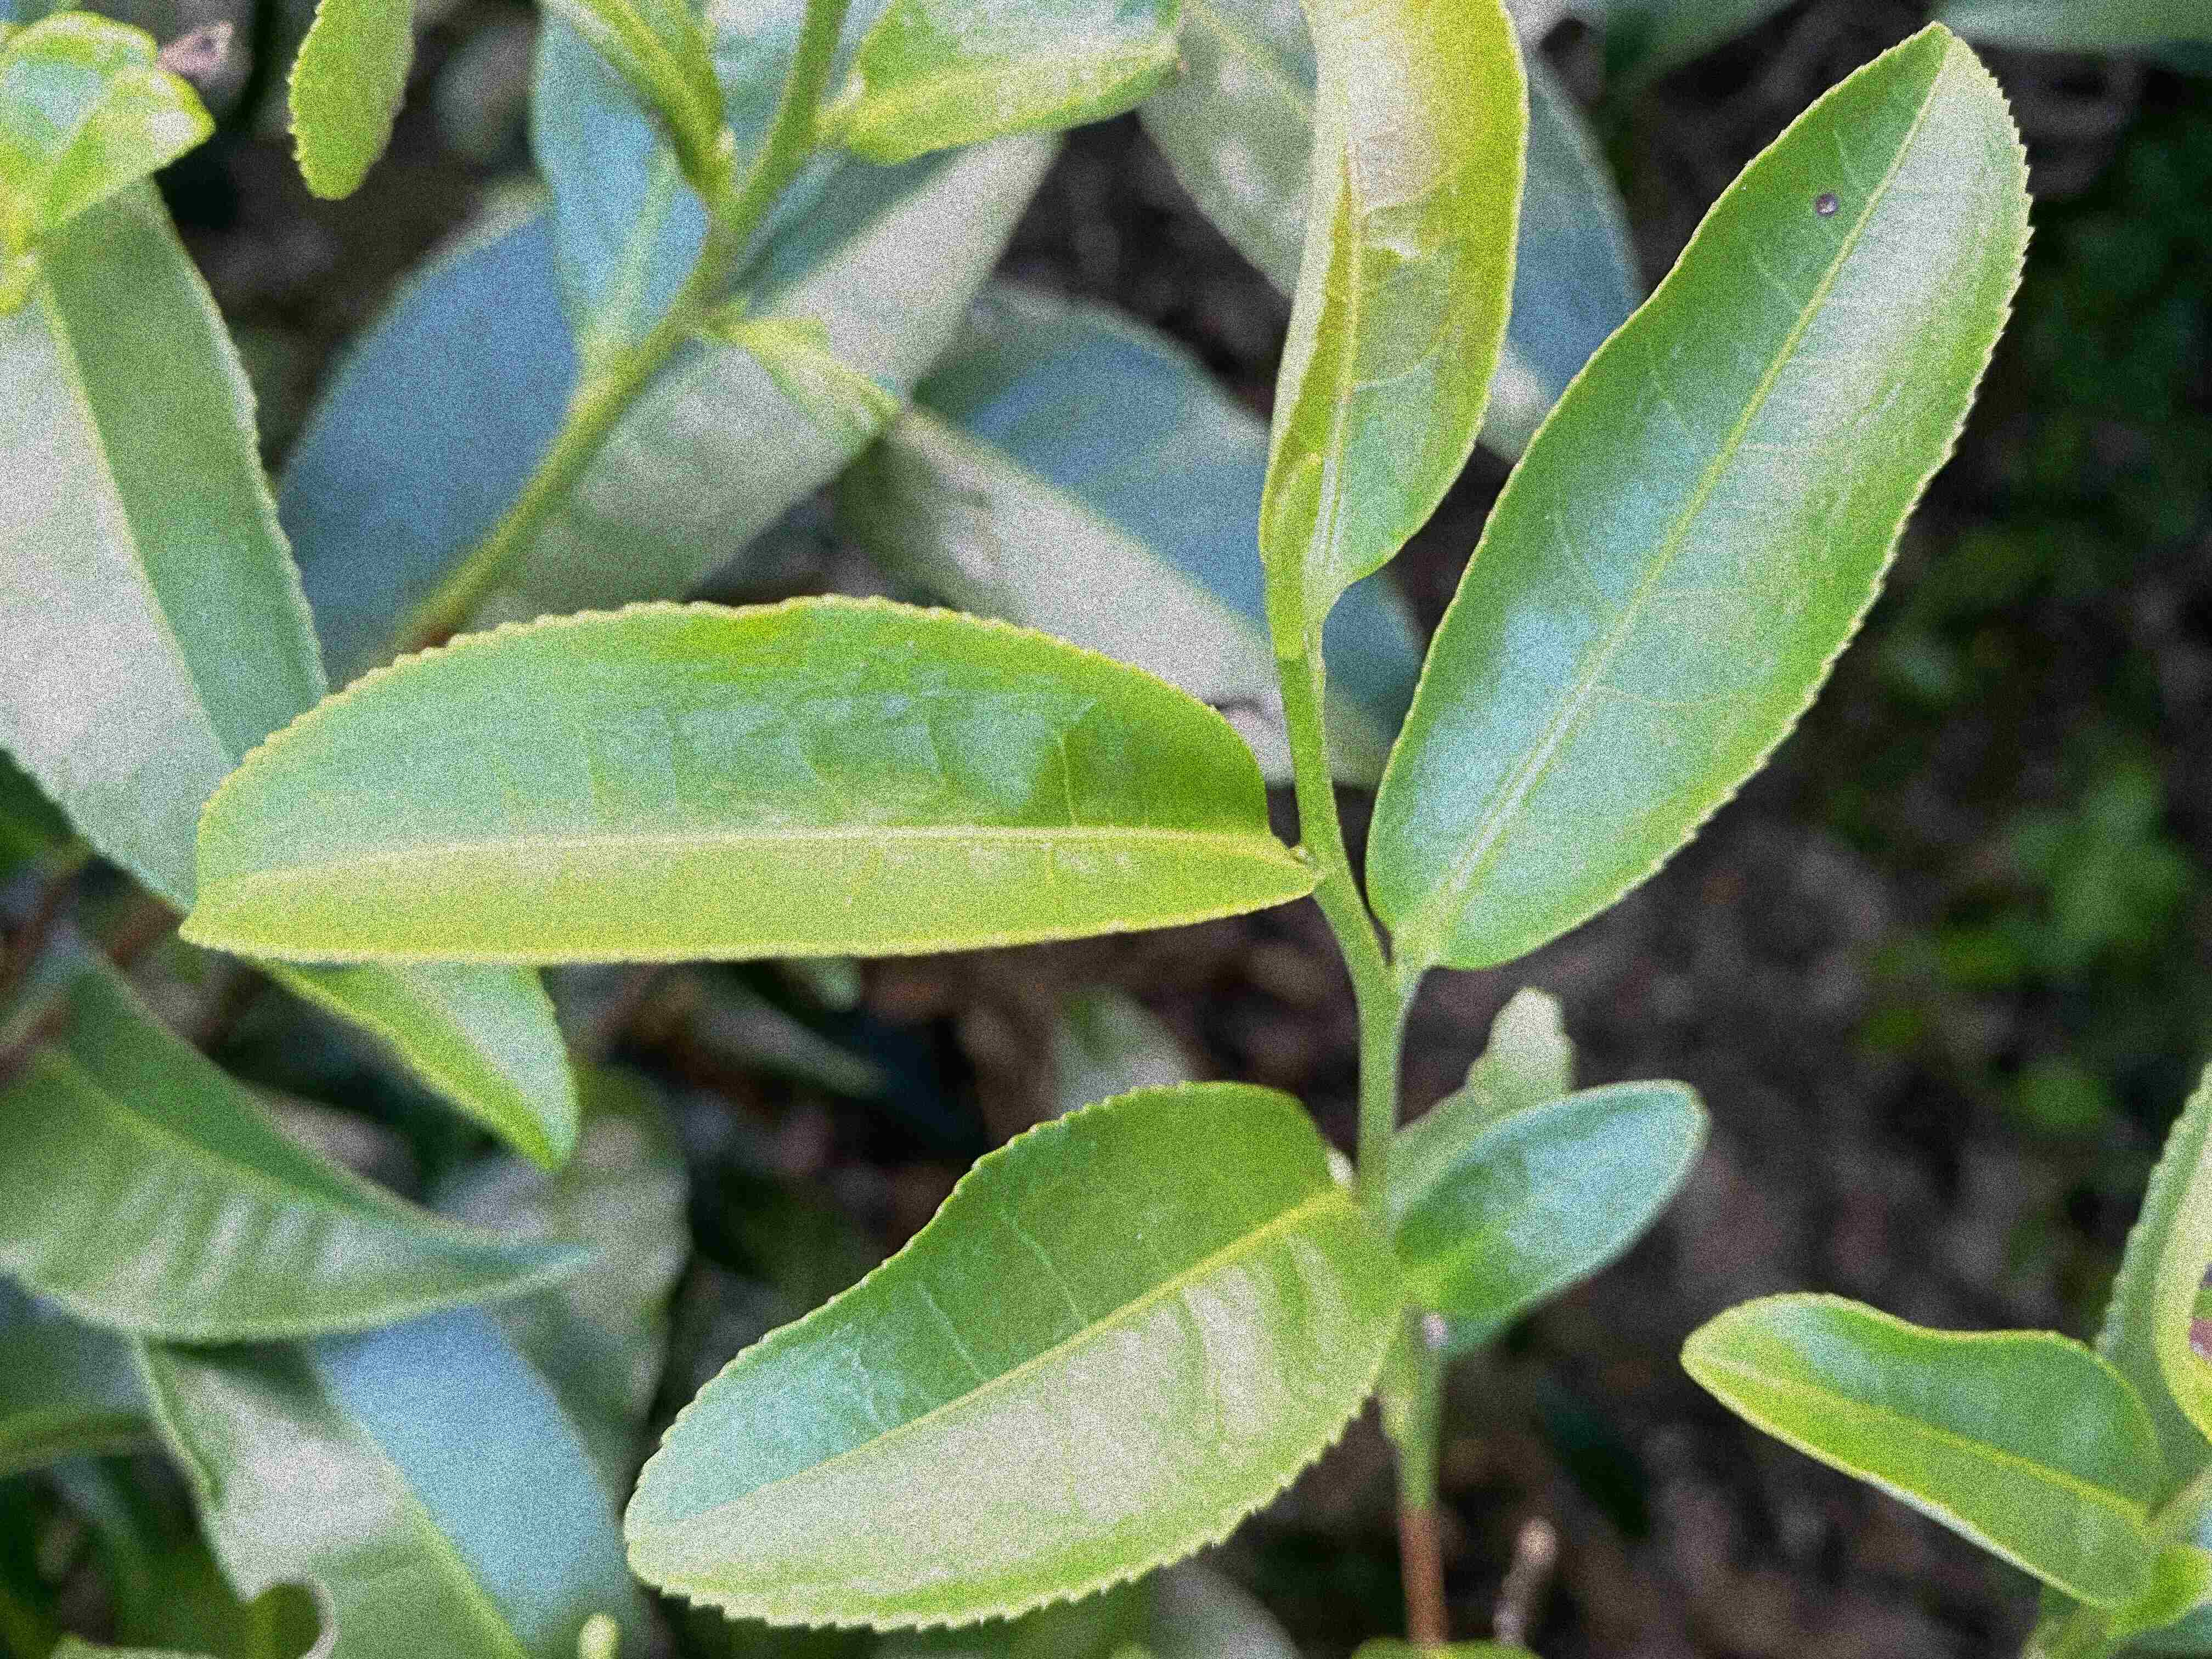healthy: (618, 1077, 1406, 1633), (174, 589, 1320, 967), (1683, 1293, 2167, 1608)
tanju_low: (1364, 21, 2036, 972), (1256, 5, 1527, 610)
